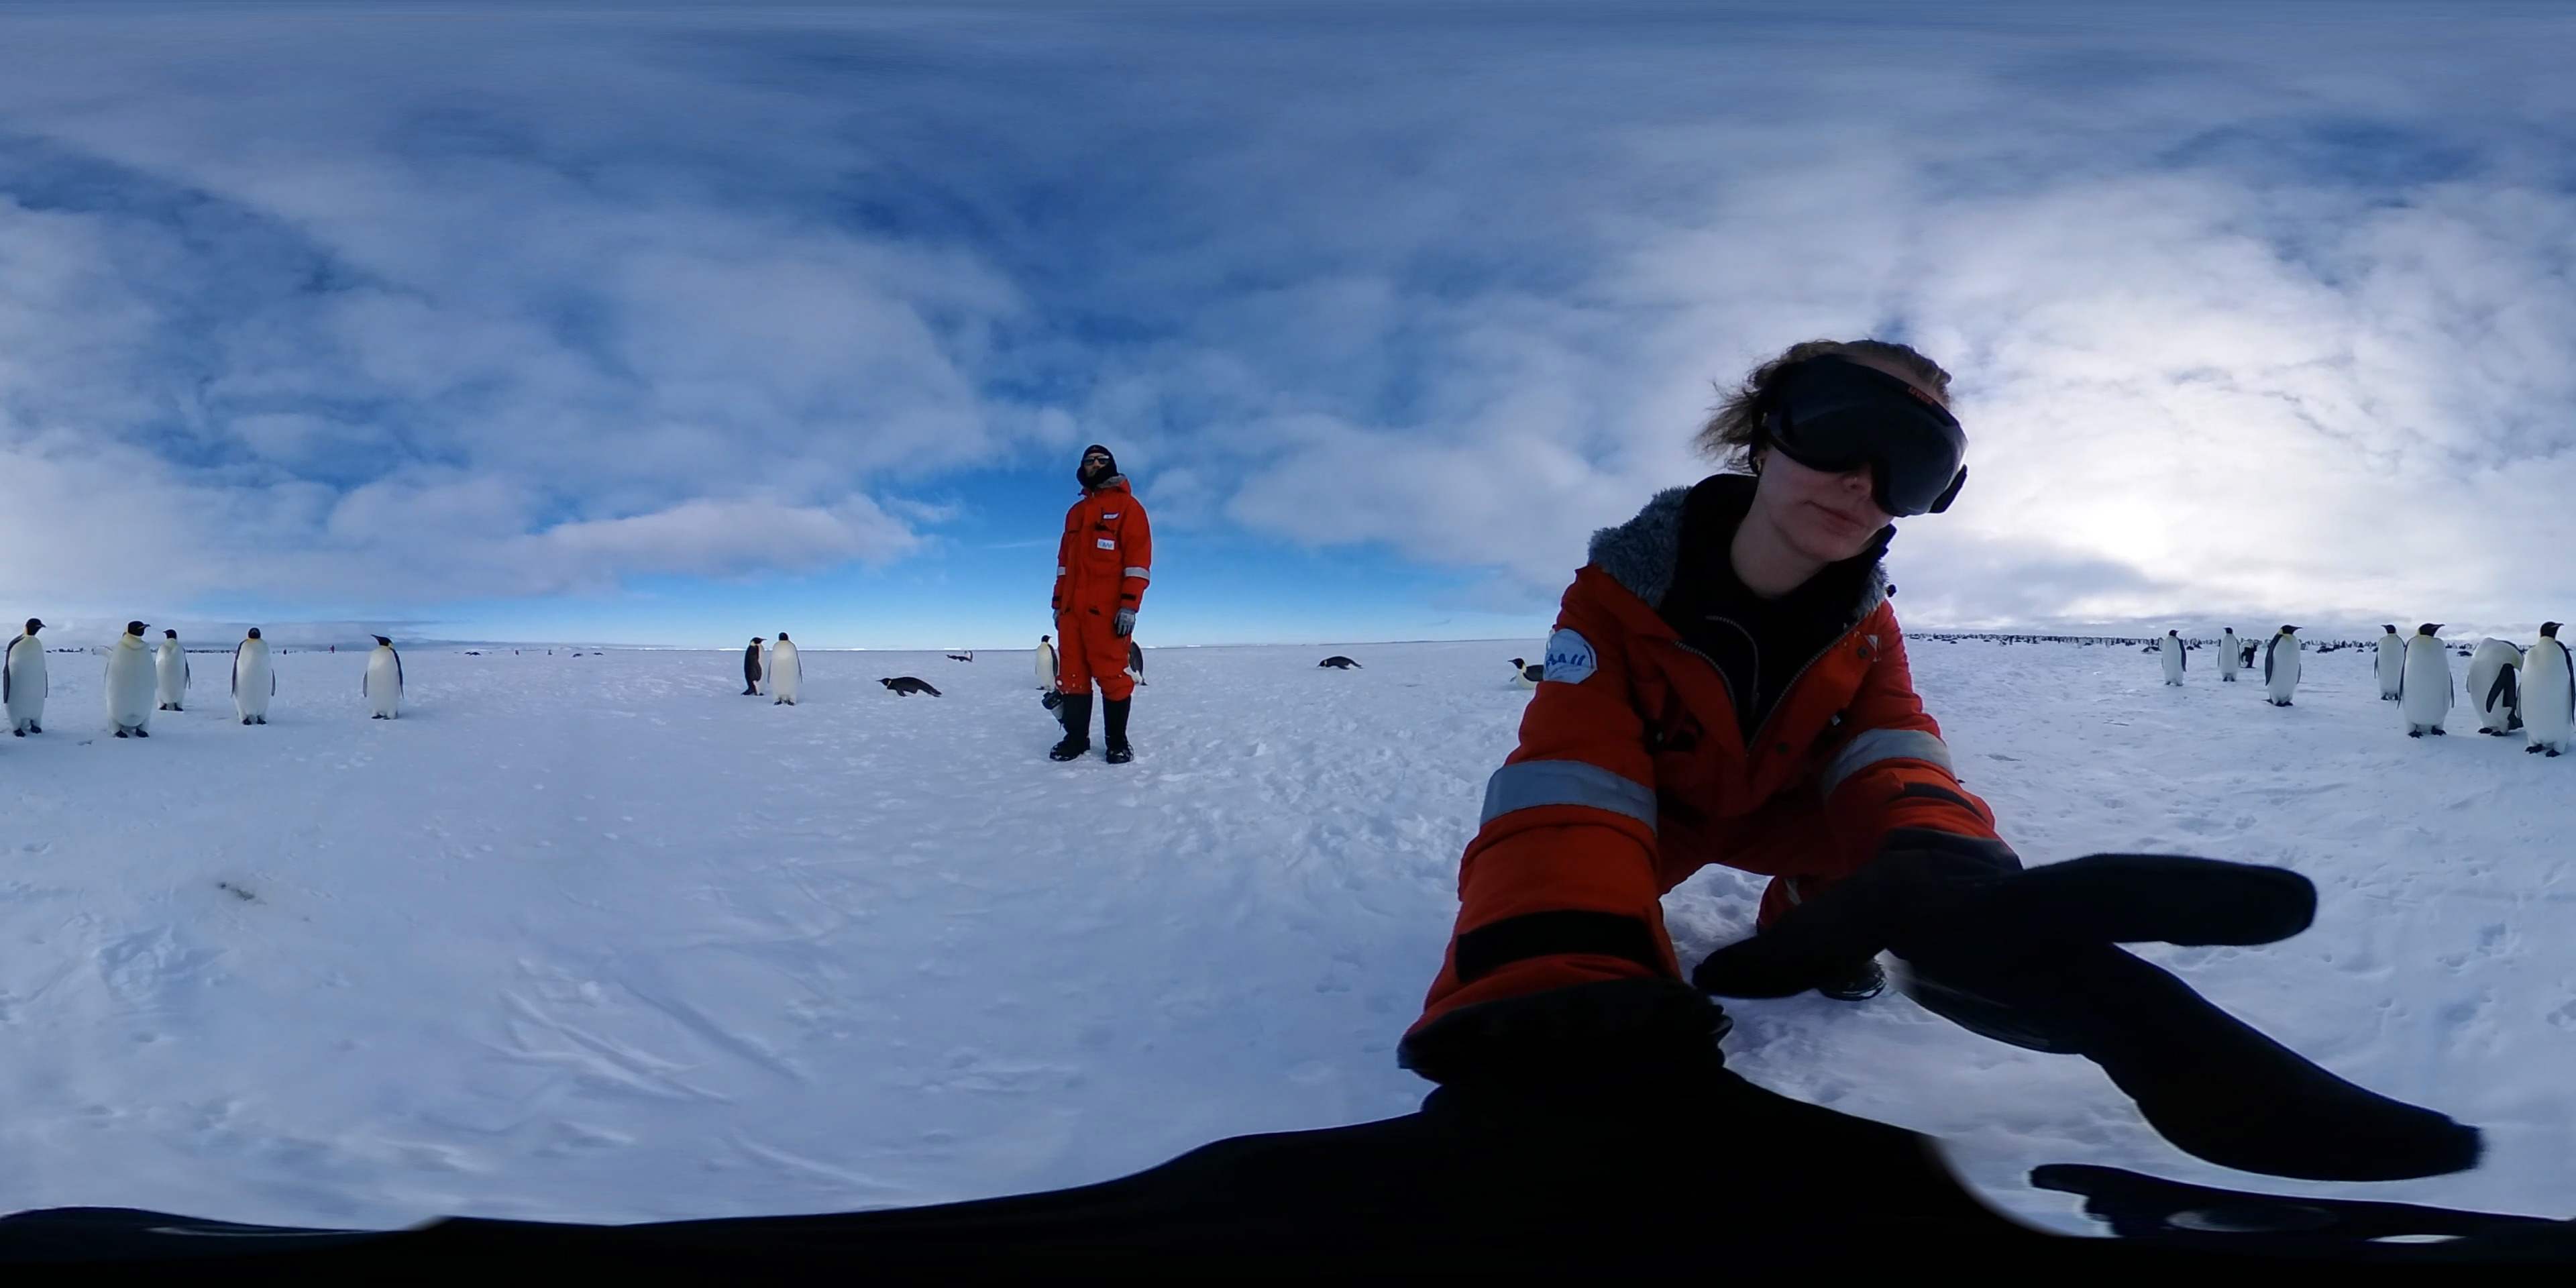adult_standing_penguin: (2515, 618, 2576, 761), (87, 618, 154, 741), (2, 619, 56, 743), (2400, 621, 2454, 743), (2468, 637, 2530, 739), (228, 626, 278, 728), (358, 634, 409, 721), (149, 628, 194, 718), (2264, 621, 2307, 710), (766, 631, 807, 710), (2371, 621, 2405, 701), (2159, 628, 2188, 688), (1033, 636, 1063, 695), (743, 636, 770, 698), (2215, 626, 2242, 683), (1122, 637, 1152, 688), (2234, 639, 2259, 670)
adult_toboggan_penguin: (877, 674, 945, 698), (1505, 657, 1546, 692), (1314, 655, 1364, 672)
researcher: (1380, 337, 2009, 1242), (1043, 439, 1157, 761)
